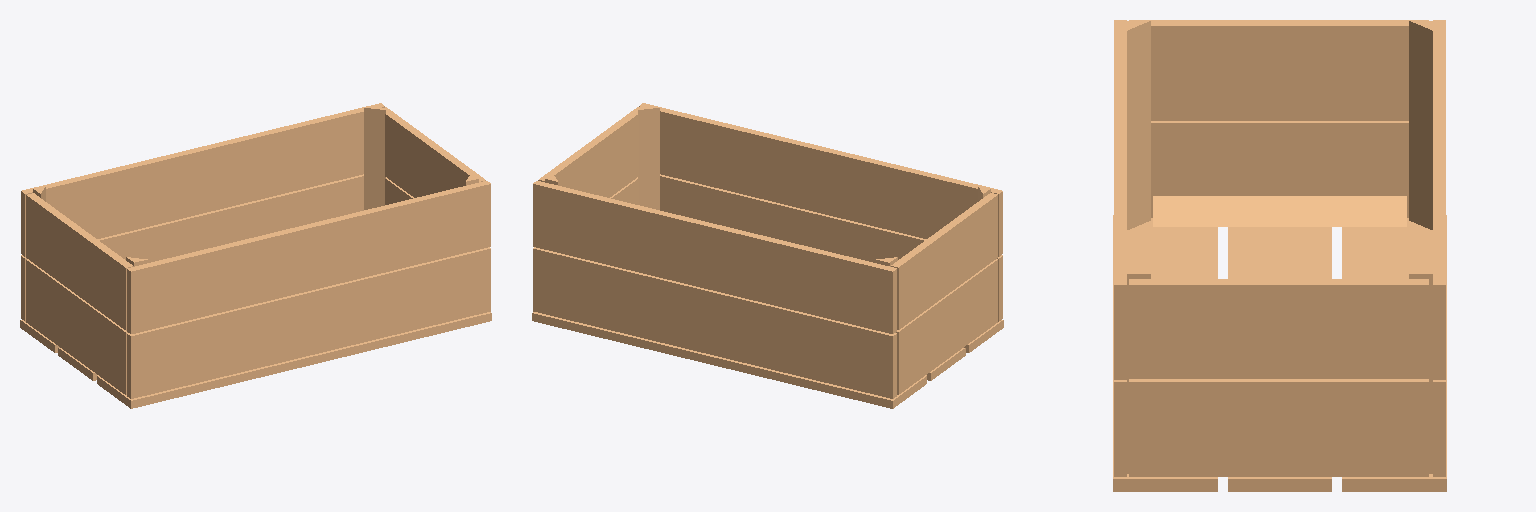
URDF robot description (box2.urdf):
<?xml version="0.0" ?>
<robot name="box2.urdf">
  <link name="baseLink">
    <contact>
      <lateral_friction value="1.0"/>
    </contact>
    <inertial>
      <origin rpy="0 0 0" xyz="0 0 0"/>
       <mass value=".0"/>
       <inertia ixx="1" ixy="0" ixz="0" iyy="1" iyz="0" izz="1"/>
    </inertial>
    <visual>
      <origin rpy="0 0 0" xyz="0 0 0"/>
      <geometry>
		<mesh filename="boite/box2.obj" scale=".03 .03 .03"/>
      </geometry>
       <material name="white">
        <color rgba="1 0.8 0.6 1"/>
      </material>
    </visual>
    <collision>
      <origin rpy="0 0 0" xyz="0 0 0"/>
      <geometry>
	 	<mesh filename="boite/box2.obj" scale=".03 .03 .03"/>
      </geometry>
    </collision>
  </link>
</robot>

--- Facts derived from the render (not from the file) ---
3 views of the same robot in one strip: view 1: azimuth 30°, elevation 25°; view 2: azimuth 150°, elevation 25°; view 3: azimuth 270°, elevation 25° (orthographic).
Model box2.urdf with 1 links and 0 joints (none), rooted at baseLink, posed every joint at zero.
Links seen in each view (by area): view 1: baseLink; view 2: baseLink; view 3: baseLink.
Boxes of the visible links, box(x1,y1,x2,y2) form: baseLink: box(20, 103, 491, 408); baseLink: box(532, 103, 1003, 408); baseLink: box(1113, 20, 1446, 491).
Bounding box of the posed robot: 1.8 × 0.9578 × 0.673 m (x, y, z).
1 mesh visuals loaded from 1 distinct referenced files (1 OBJ).